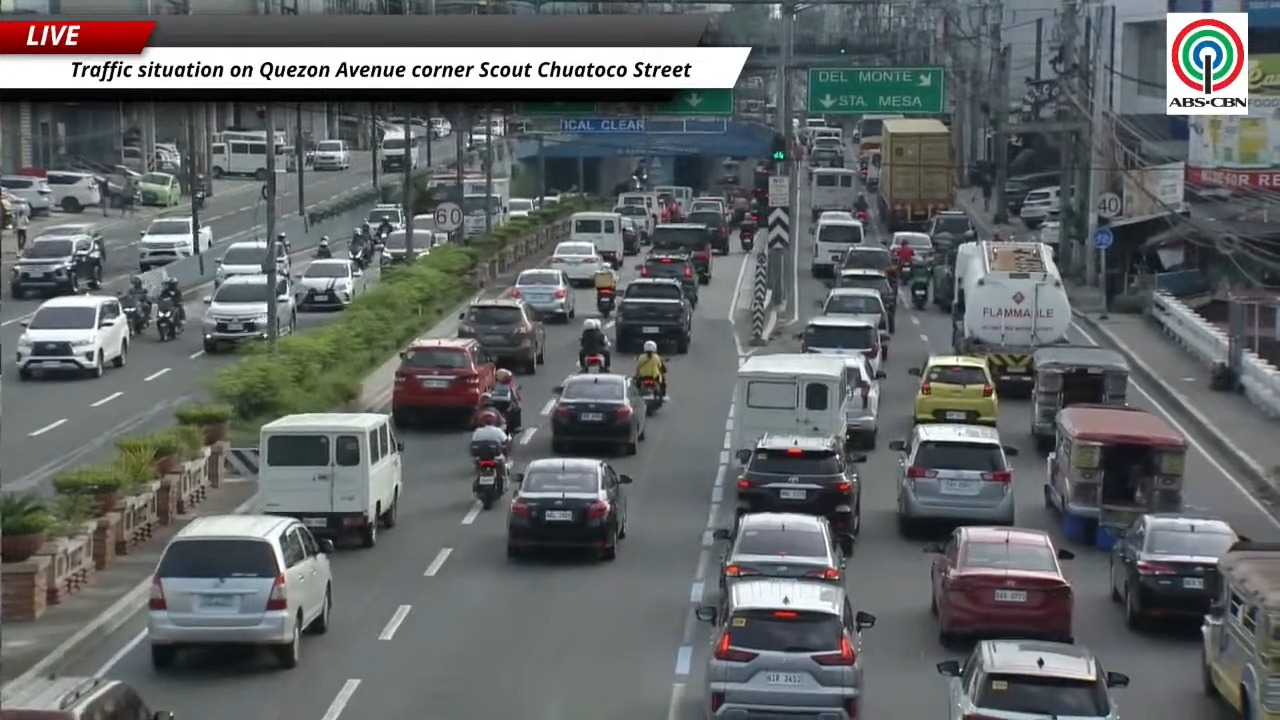bus: (210, 138, 266, 179), (858, 114, 903, 156), (210, 130, 266, 143)
car: (147, 515, 333, 669), (695, 578, 875, 719), (926, 526, 1073, 646), (936, 639, 1129, 719), (735, 434, 865, 551), (1109, 513, 1240, 627), (890, 423, 1016, 536), (507, 458, 632, 559), (713, 512, 846, 596), (16, 295, 128, 379), (391, 338, 495, 426), (550, 373, 646, 454), (0, 675, 174, 719), (202, 274, 296, 353), (457, 297, 544, 373), (908, 355, 997, 426), (10, 235, 102, 298), (614, 278, 691, 353), (795, 315, 886, 372), (845, 355, 885, 449), (507, 268, 575, 323), (294, 258, 365, 309), (651, 223, 711, 283), (819, 286, 895, 333), (637, 250, 698, 306), (836, 268, 897, 324), (139, 215, 195, 271), (36, 223, 106, 263), (667, 210, 729, 254), (548, 242, 608, 286), (1005, 170, 1062, 216), (214, 241, 270, 284), (45, 171, 102, 212), (0, 175, 51, 216), (837, 245, 896, 278), (1019, 186, 1061, 229), (613, 205, 651, 249), (925, 210, 974, 242), (137, 172, 181, 206), (891, 231, 932, 264), (0, 188, 31, 229), (412, 226, 447, 261), (412, 214, 449, 246), (312, 139, 350, 169), (365, 203, 403, 232), (809, 211, 855, 233), (620, 216, 640, 255), (688, 197, 725, 216), (466, 126, 492, 151), (809, 148, 843, 167), (659, 193, 682, 221), (508, 198, 535, 218), (429, 117, 451, 138)
motorcycle: (472, 442, 509, 509), (492, 386, 521, 434), (123, 301, 149, 336), (155, 307, 181, 341), (640, 377, 664, 413), (596, 288, 615, 318), (739, 222, 757, 251), (349, 244, 367, 270), (581, 354, 604, 373), (911, 282, 927, 309), (193, 190, 206, 211), (854, 210, 868, 221)
truck: (952, 241, 1071, 391), (878, 119, 954, 231), (856, 114, 903, 156)
